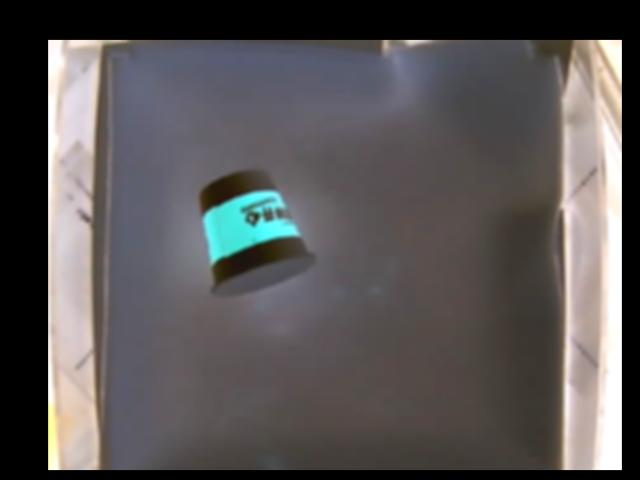Cup: (201, 167, 317, 300)
